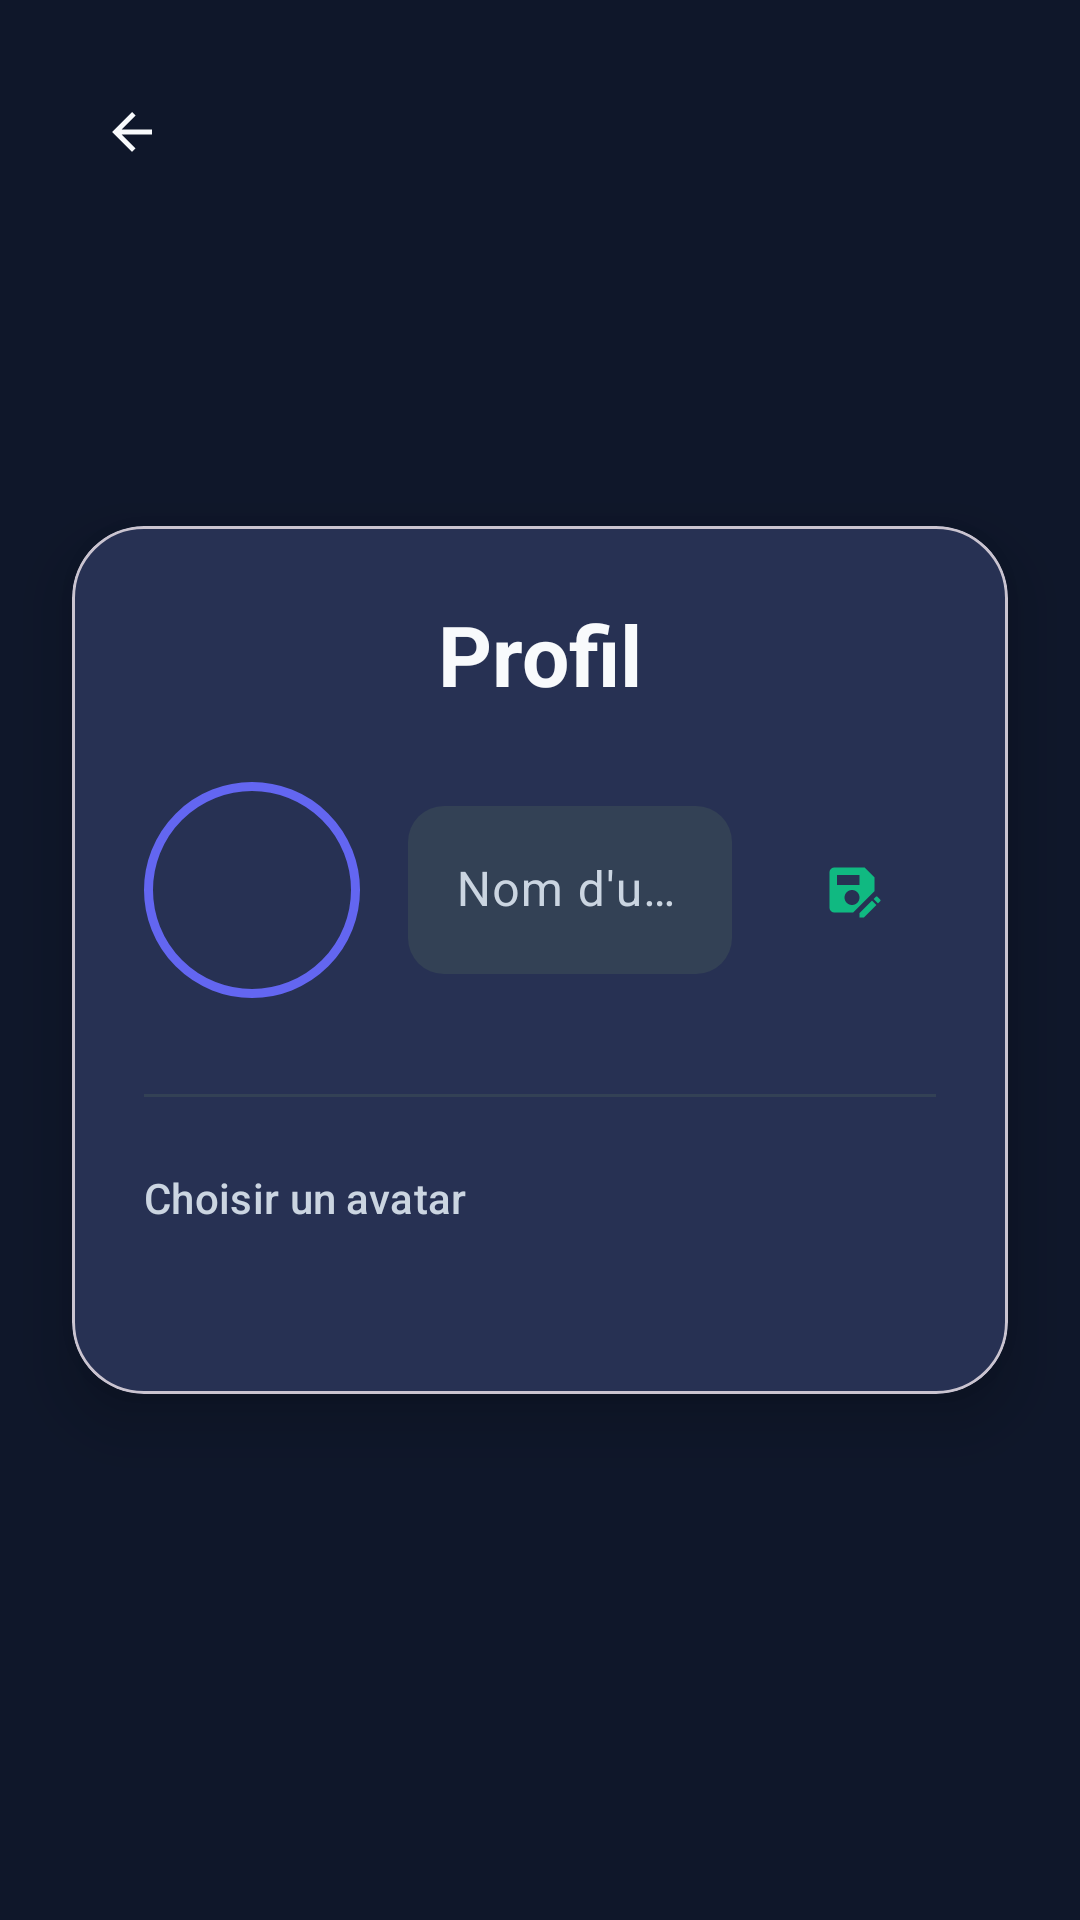

Where to tap for icons on this 1080px×1920px app screen, as (x,y):
Retour: (132,132)
Sauvegarder: (855,892)
